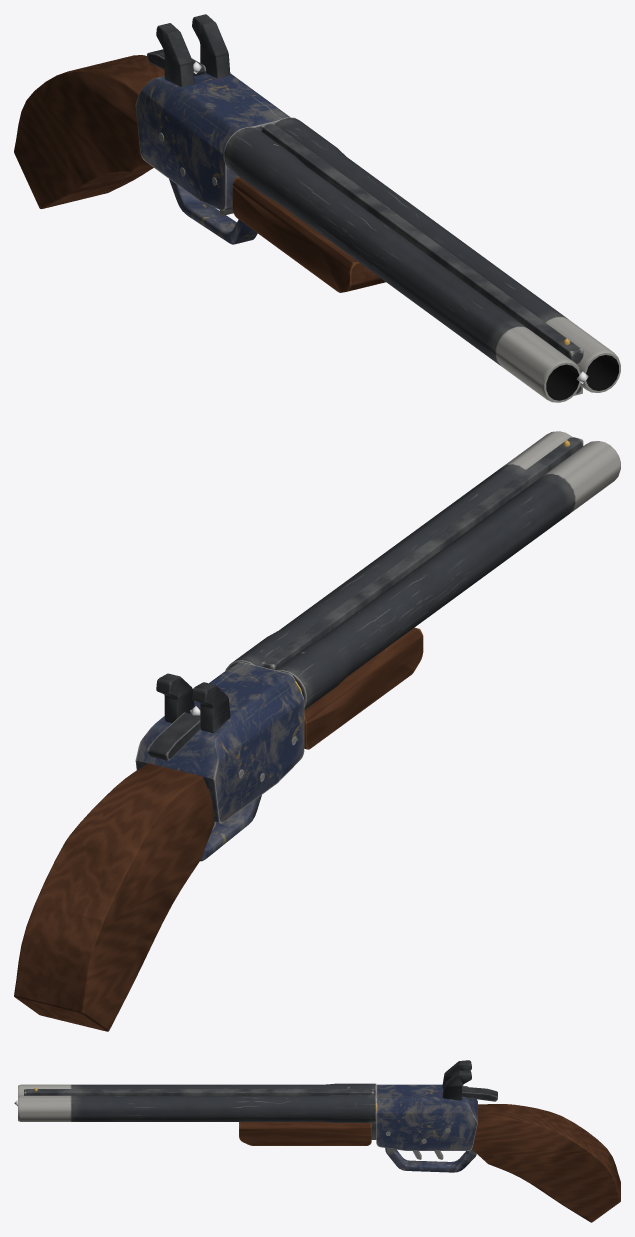
The model's file is Shotgun_Double_SawnOff.fbx.
3 renders of one model, top to bottom at view 1: azimuth 30°, elevation 25°; view 2: azimuth 150°, elevation 25°; view 3: azimuth 270°, elevation 25°, orthographic. The views are drawn at different scales.
Visible parts, largest first — view 1: Barrels, Handle; view 2: Handle, Barrels; view 3: Handle, Barrels.
Part boxes in pixels (<box>): Barrels: <box>223,117,620,402</box>; Handle: <box>14,14,289,244</box>; Handle: <box>14,662,304,1031</box>; Barrels: <box>225,431,620,749</box>; Handle: <box>376,1060,620,1222</box>; Barrels: <box>18,1083,376,1145</box>.
Size of the model in its own units: 0.1602 by 0.4832 by 1.81.
2 materials, 1 textured.
